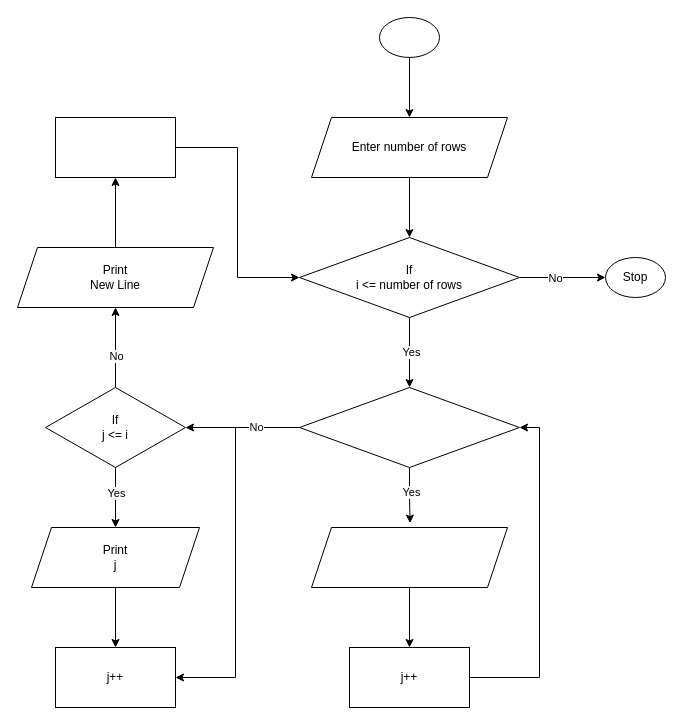
Some shapes in this 683 by 725 pixel diagram are drawn without their labels. Each missing label, with the centre of its shape:
"i++" goes at (x=115, y=147).
"If j <= number of rows - i" goes at (x=409, y=427).
"Print White Space" goes at (x=409, y=557).
"Start" goes at (x=409, y=37).
